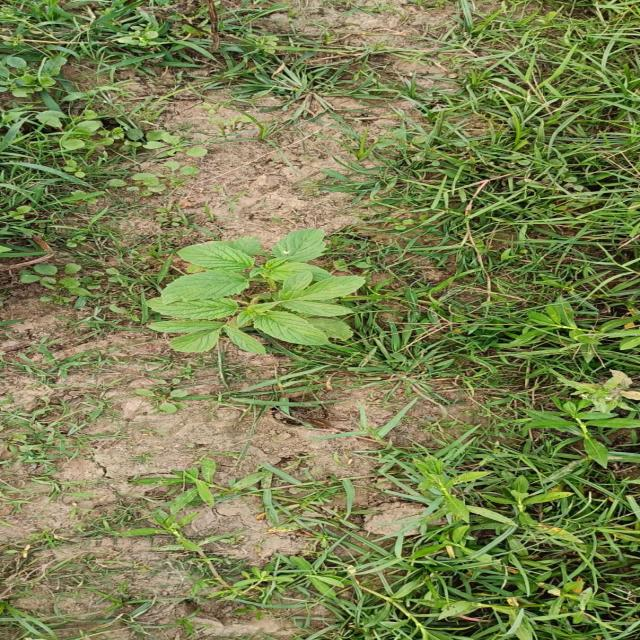plant: (145, 229, 365, 354)
